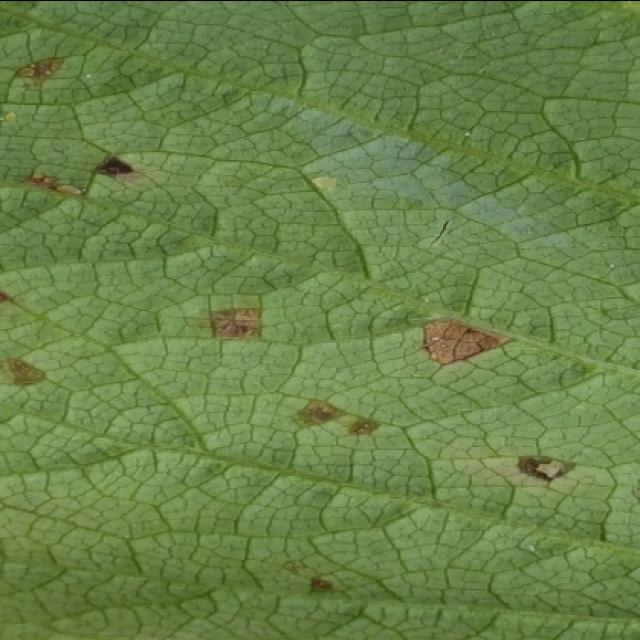Angular Leafspot: (0, 42, 582, 617)
